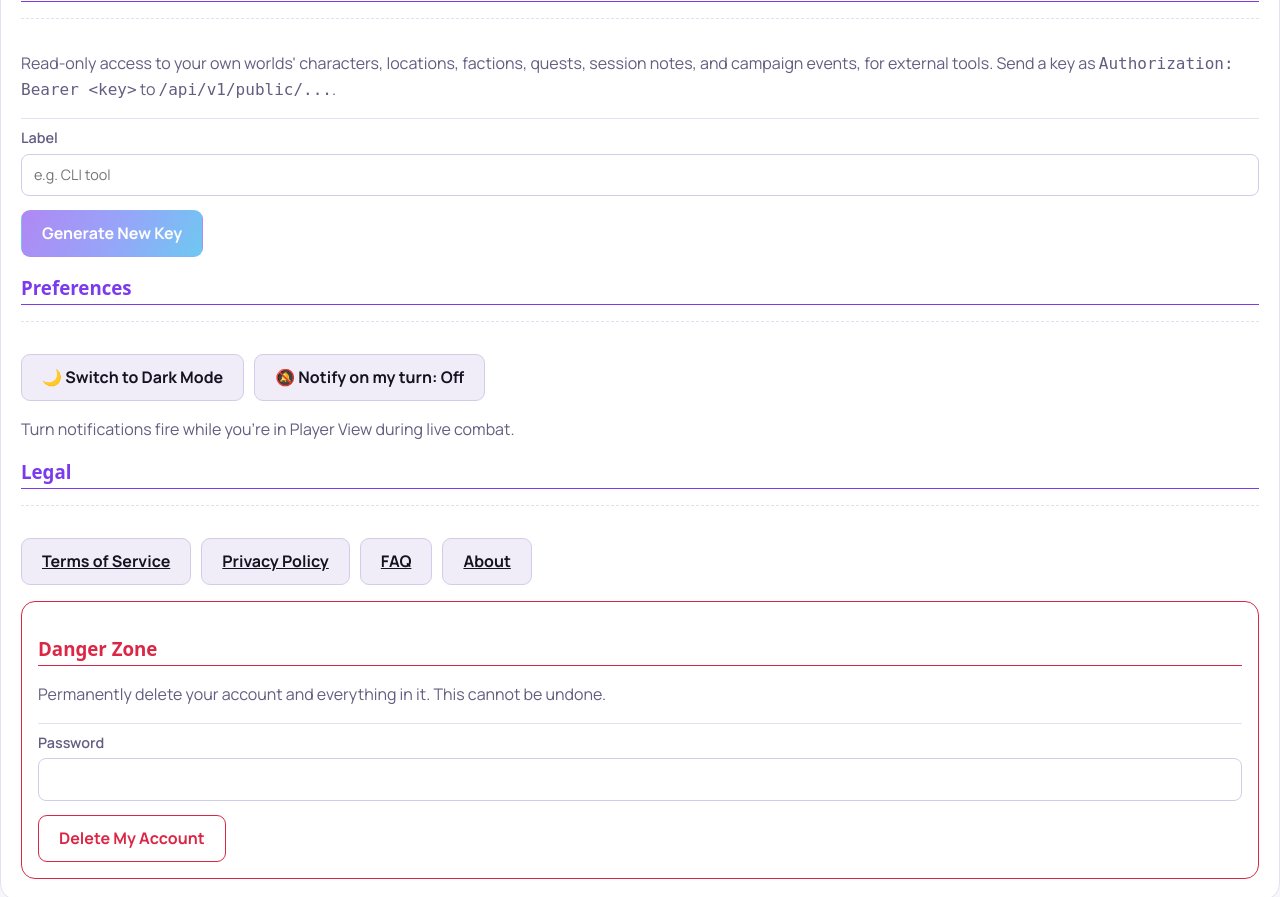
Scenario: ProfilePage danger zone › shows the server's error message if deletion fails
(page scrolled)
Type "wrong" into the password field labelled "Password". click: x=640, y=780
box: [38,758,1242,801]
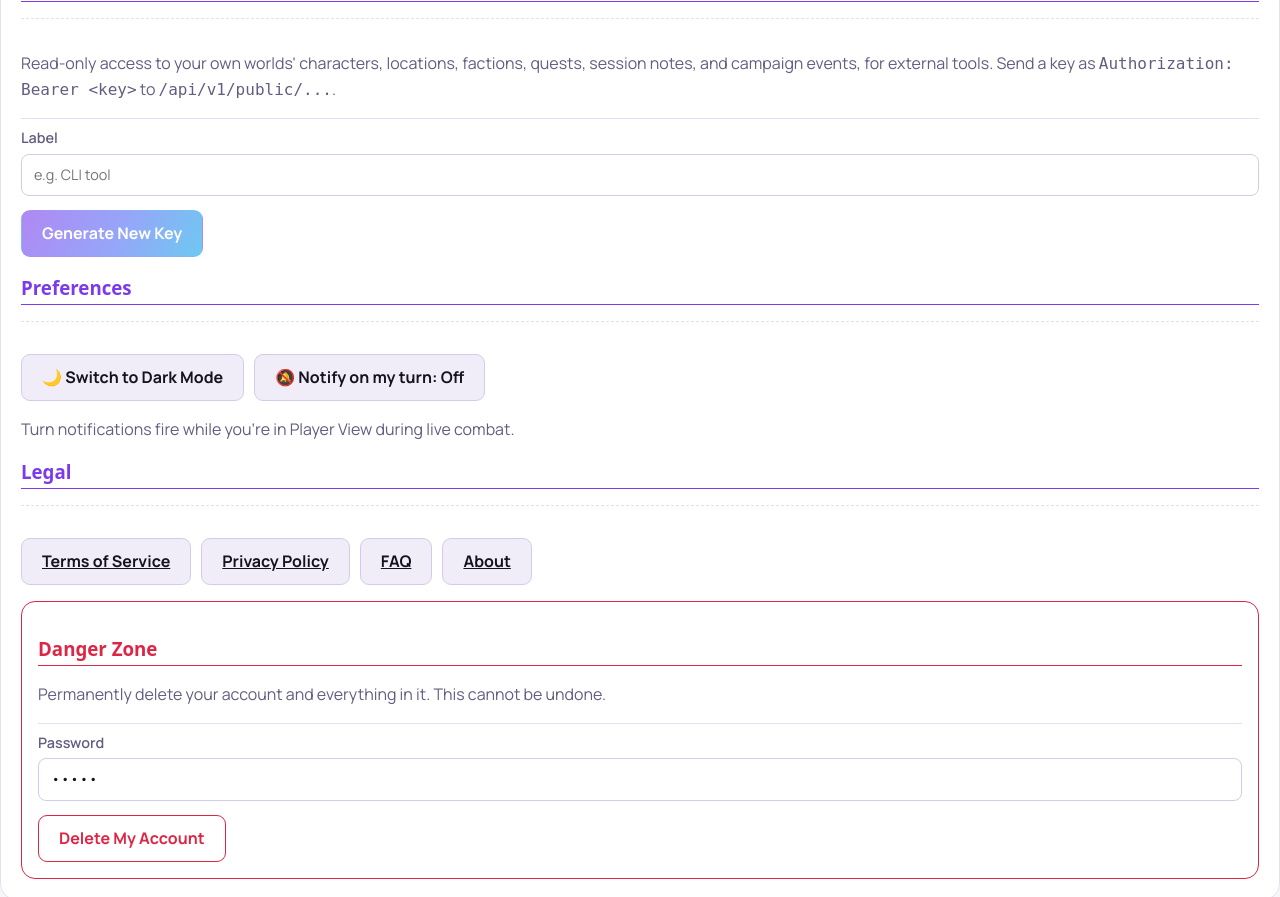
Click the button "Delete My Account". click: x=132, y=838
box: [38,815,226,862]
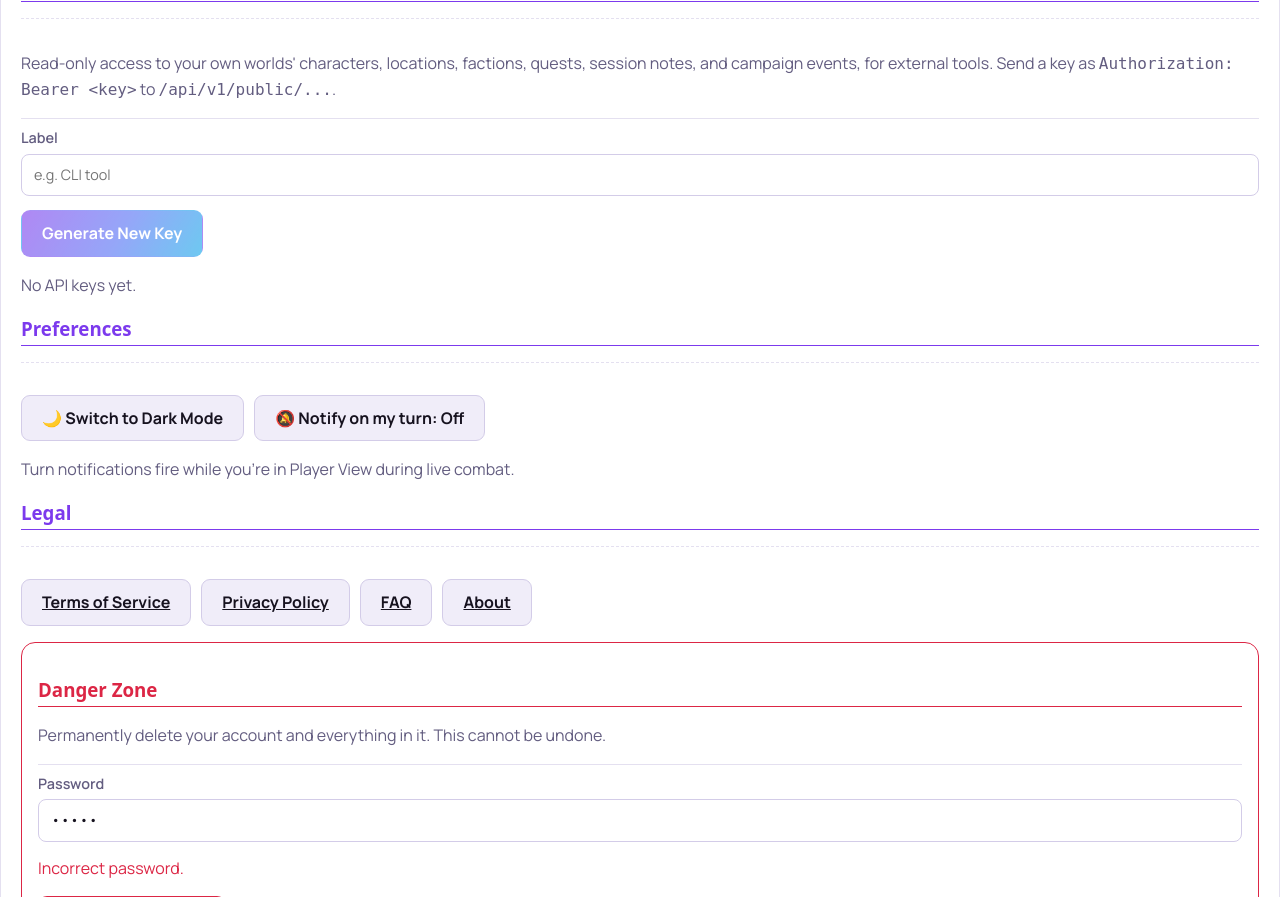
Now the text "Incorrect password." is shown, box [38,856,184,878]
